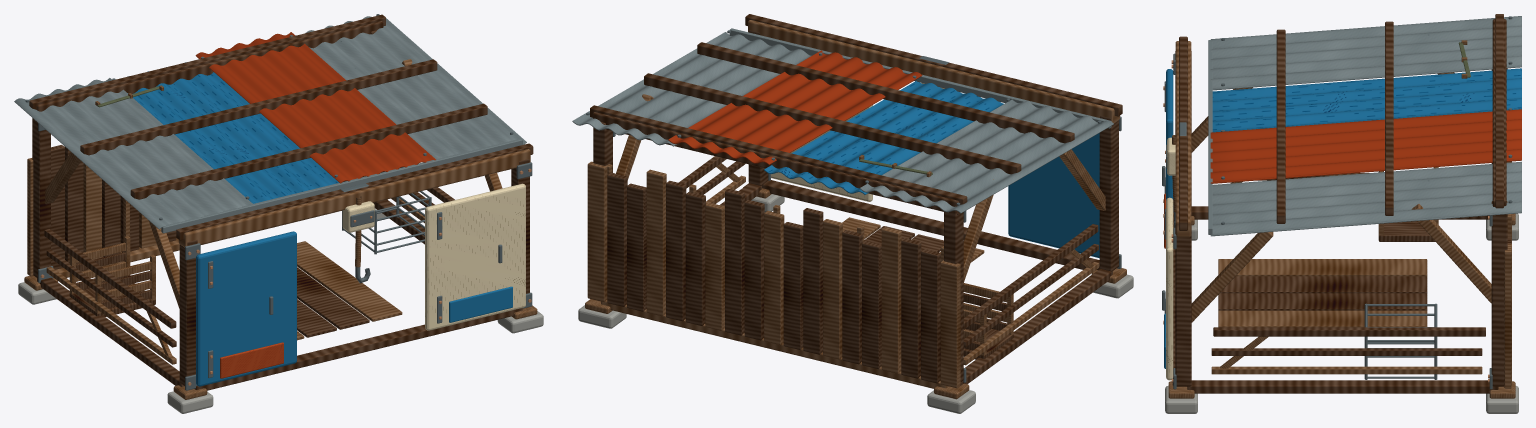
Rendered from scavenger_depot.glb.
The picture shows the model from 3 angles, left to right: view 1: azimuth 30°, elevation 25°; view 2: azimuth 150°, elevation 25°; view 3: azimuth 270°, elevation 25°; orthographic projection. The views are drawn at different scales.
Visible parts, largest first — view 1: MaterialBatch_Scavenger_depot_reclaimed_timber, MaterialBatch_Scavenger_depot_mismatched_galvanized_sheets, MaterialBatch_Scavenger_depot_faded_blue_enamel, MaterialBatch_Scavenger_depot_sun-faded_boards, MaterialBatch_Scavenger_depot_ochre_enamel_patch, MaterialBatch_Scavenger_depot_chipped_cream_enamel, MaterialBatch_Scavenger_depot_blackened_iron, MaterialBatch_Scavenger_depot_broken_concrete_feet; view 2: MaterialBatch_Scavenger_depot_reclaimed_timber, MaterialBatch_Scavenger_depot_sun-faded_boards, MaterialBatch_Scavenger_depot_mismatched_galvanized_sheets, MaterialBatch_Scavenger_depot_faded_blue_enamel, MaterialBatch_Scavenger_depot_ochre_enamel_patch, MaterialBatch_Scavenger_depot_broken_concrete_feet, MaterialBatch_Scavenger_depot_chipped_cream_enamel; view 3: MaterialBatch_Scavenger_depot_reclaimed_timber, MaterialBatch_Scavenger_depot_mismatched_galvanized_sheets, MaterialBatch_Scavenger_depot_sun-faded_boards, MaterialBatch_Scavenger_depot_ochre_enamel_patch, MaterialBatch_Scavenger_depot_faded_blue_enamel, MaterialBatch_Scavenger_depot_blackened_iron, MaterialBatch_Scavenger_depot_chipped_cream_enamel, MaterialBatch_Scavenger_depot_broken_concrete_feet.
Part boxes in pixels (<box>): MaterialBatch_Scavenger_depot_reclaimed_timber: <box>29,14,533,390</box>; MaterialBatch_Scavenger_depot_mismatched_galvanized_sheets: <box>14,16,526,233</box>; MaterialBatch_Scavenger_depot_faded_blue_enamel: <box>127,62,512,386</box>; MaterialBatch_Scavenger_depot_sun-faded_boards: <box>24,59,537,399</box>; MaterialBatch_Scavenger_depot_ochre_enamel_patch: <box>195,32,435,378</box>; MaterialBatch_Scavenger_depot_chipped_cream_enamel: <box>342,183,525,330</box>; MaterialBatch_Scavenger_depot_blackened_iron: <box>25,14,532,390</box>; MaterialBatch_Scavenger_depot_broken_concrete_feet: <box>18,208,543,413</box>; MaterialBatch_Scavenger_depot_reclaimed_timber: <box>590,14,1122,385</box>; MaterialBatch_Scavenger_depot_sun-faded_boards: <box>585,20,1126,399</box>; MaterialBatch_Scavenger_depot_mismatched_galvanized_sheets: <box>572,28,1113,213</box>; MaterialBatch_Scavenger_depot_faded_blue_enamel: <box>764,81,1099,258</box>; MaterialBatch_Scavenger_depot_ochre_enamel_patch: <box>668,50,922,164</box>; MaterialBatch_Scavenger_depot_broken_concrete_feet: <box>578,194,1133,413</box>; MaterialBatch_Scavenger_depot_chipped_cream_enamel: <box>771,83,944,201</box>; MaterialBatch_Scavenger_depot_reclaimed_timber: <box>1172,14,1511,393</box>; MaterialBatch_Scavenger_depot_mismatched_galvanized_sheets: <box>1208,16,1521,236</box>; MaterialBatch_Scavenger_depot_sun-faded_boards: <box>1168,40,1515,398</box>; MaterialBatch_Scavenger_depot_ochre_enamel_patch: <box>1164,109,1521,248</box>; MaterialBatch_Scavenger_depot_faded_blue_enamel: <box>1164,68,1521,368</box>; MaterialBatch_Scavenger_depot_blackened_iron: <box>1162,16,1512,389</box>; MaterialBatch_Scavenger_depot_chipped_cream_enamel: <box>1166,137,1175,380</box>; MaterialBatch_Scavenger_depot_broken_concrete_feet: <box>1165,213,1518,413</box>.
Size of the model in its own units: 23.63 by 12.17 by 18.61.
10 materials, 7 textured.
